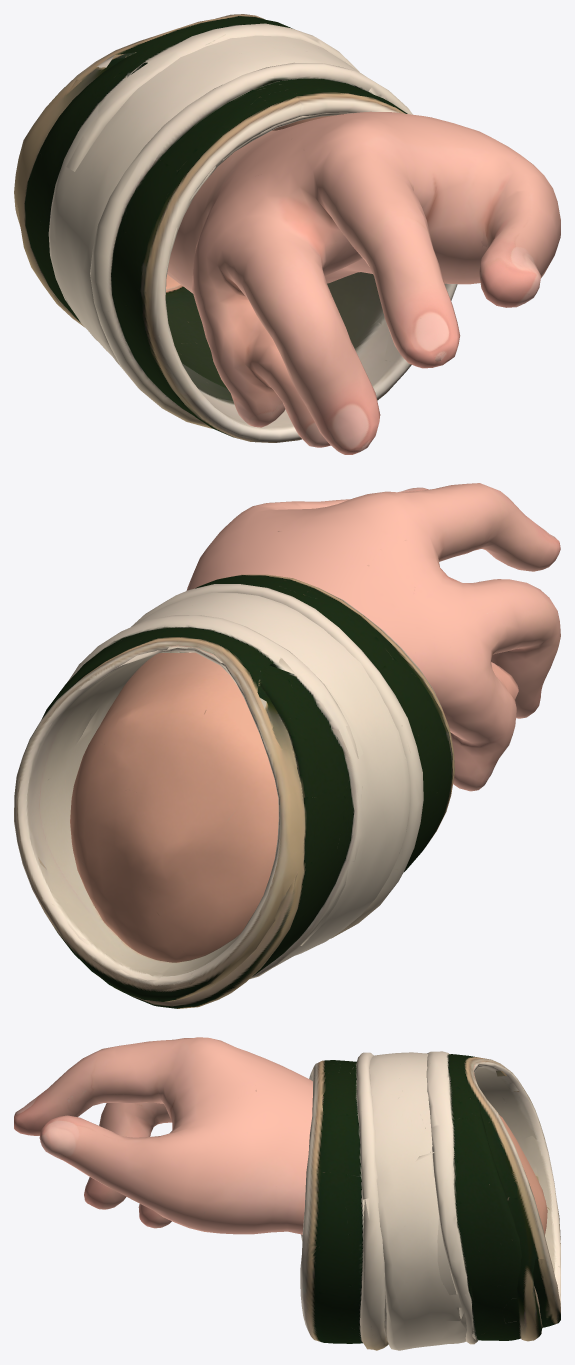
Rendered from mano_agarre.glb.
3 renders of one model, top to bottom at view 1: azimuth 30°, elevation 25°; view 2: azimuth 150°, elevation 25°; view 3: azimuth 270°, elevation 25°, orthographic. The views are drawn at different scales.
Parts seen in each view (by area): view 1: mano_agarre, manga_agarre; view 2: manga_agarre, mano_agarre; view 3: manga_agarre, mano_agarre.
Part boxes in pixels (left/top/right/bottom): mano_agarre: left=167, top=111, right=560, bottom=454; manga_agarre: left=14, top=14, right=457, bottom=442; manga_agarre: left=14, top=574, right=454, bottom=1008; mano_agarre: left=186, top=483, right=560, bottom=791; manga_agarre: left=300, top=1051, right=560, bottom=1350; mano_agarre: left=14, top=1037, right=312, bottom=1234.
Bounding box in the file's own units: 0.2868 × 0.3088 × 0.5262.
1 material, 1 textured.
